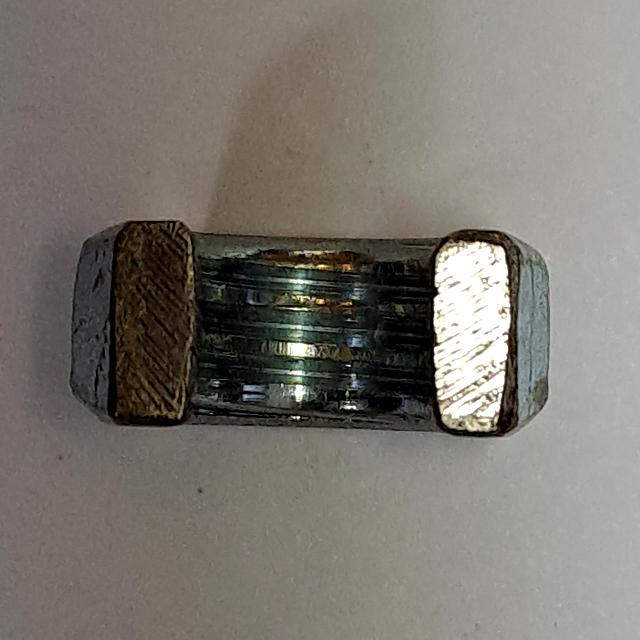Side-Fracture: (46, 199, 575, 460)
